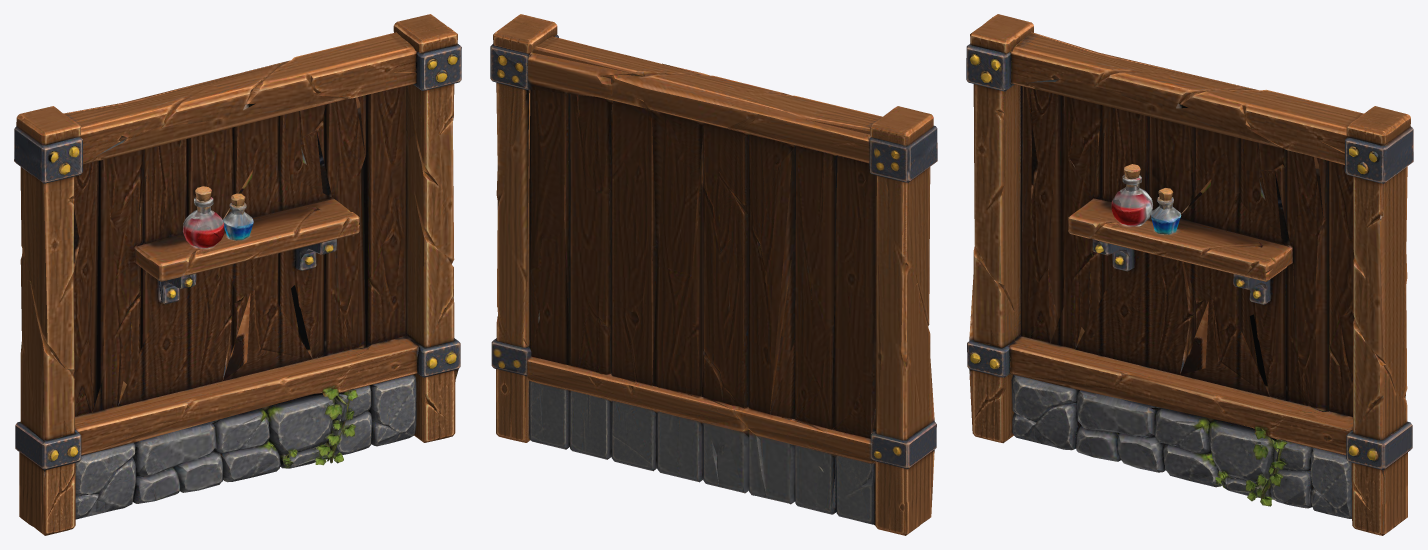
File: wall_plain_1.glb
3 views of the same model, side by side, from view 1: azimuth 30°, elevation 25°; view 2: azimuth 150°, elevation 25°; view 3: azimuth 330°, elevation 25° (orthographic).
Visible parts, largest first — view 1: output_unwrapped; view 2: output_unwrapped; view 3: output_unwrapped.
Part boxes in pixels (<box>): output_unwrapped: <box>14,14,461,535</box>; output_unwrapped: <box>490,14,937,535</box>; output_unwrapped: <box>966,14,1413,535</box>.
Size of the model in its own units: 1.9 by 1.75 by 0.3037.
Materials: 1 (1 with a texture image).
